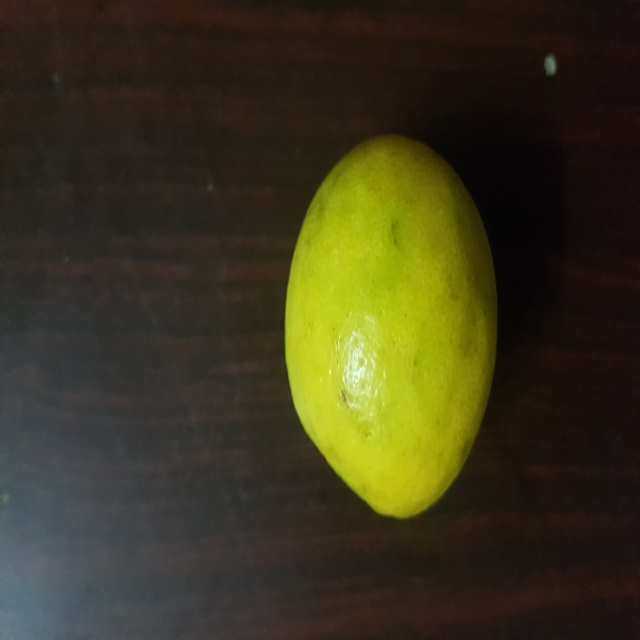lemon: (283, 129, 512, 523)
